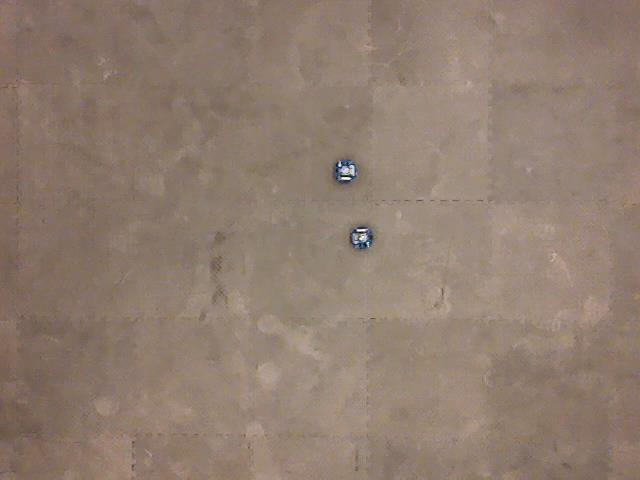Agent: (348, 224, 375, 251), (333, 158, 359, 185)
